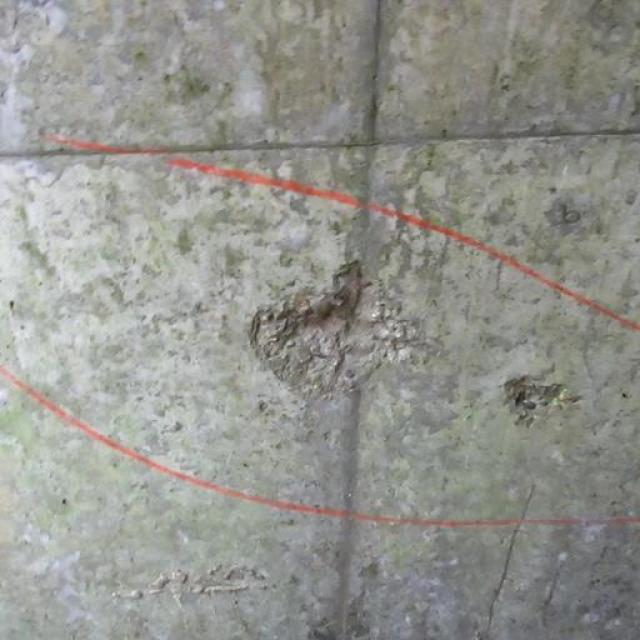D10: (250, 261, 442, 396), (504, 375, 580, 425)
